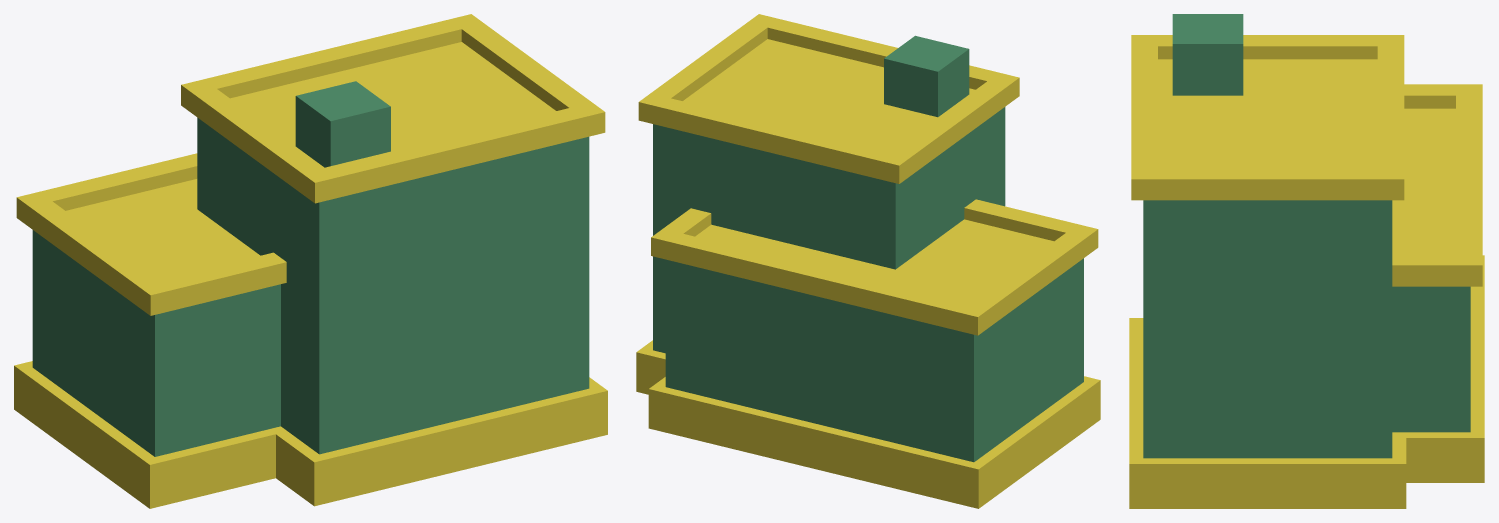
File: Map-House-S-Lv2-Y.fbx
3 renders of one model, left to right at view 1: azimuth 30°, elevation 25°; view 2: azimuth 150°, elevation 25°; view 3: azimuth 270°, elevation 25°, orthographic. The views are drawn at different scales.
Parts seen in each view (by area): view 1: Map-House-S-Lv2-Y; view 2: Map-House-S-Lv2-Y; view 3: Map-House-S-Lv2-Y.
Part boxes in pixels (x1,y1,x2,y2): Map-House-S-Lv2-Y: (14,14,607,508); Map-House-S-Lv2-Y: (636,14,1100,508); Map-House-S-Lv2-Y: (1129,14,1484,508).
Bounding box in the file's own units: 1.91 × 1.57 × 1.37.
